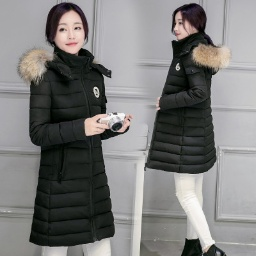face: (41, 2, 96, 61), (163, 1, 219, 44)
